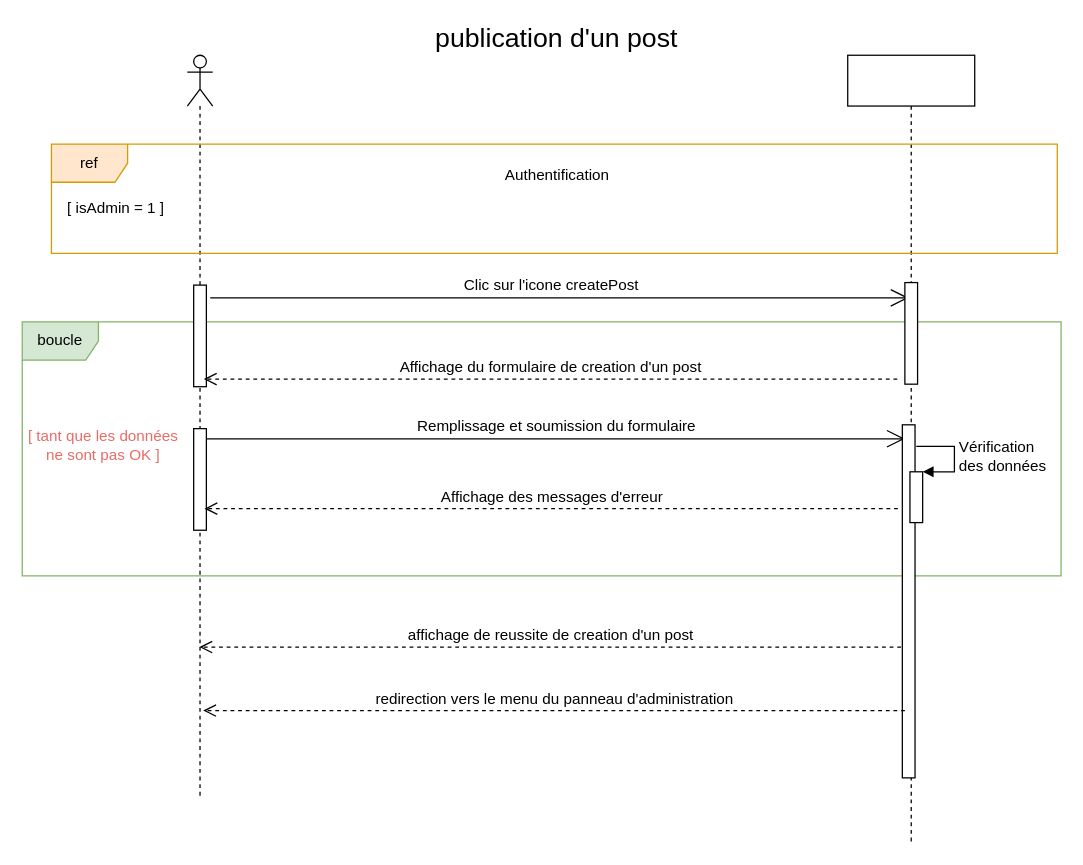
This 1083x865 diagram has some shape labels left out. The shapes that lost their labels are listed below. From the top down, each one's centre as x and y in pixels, then its label:
point 199,426: user
point 910,448: :System
